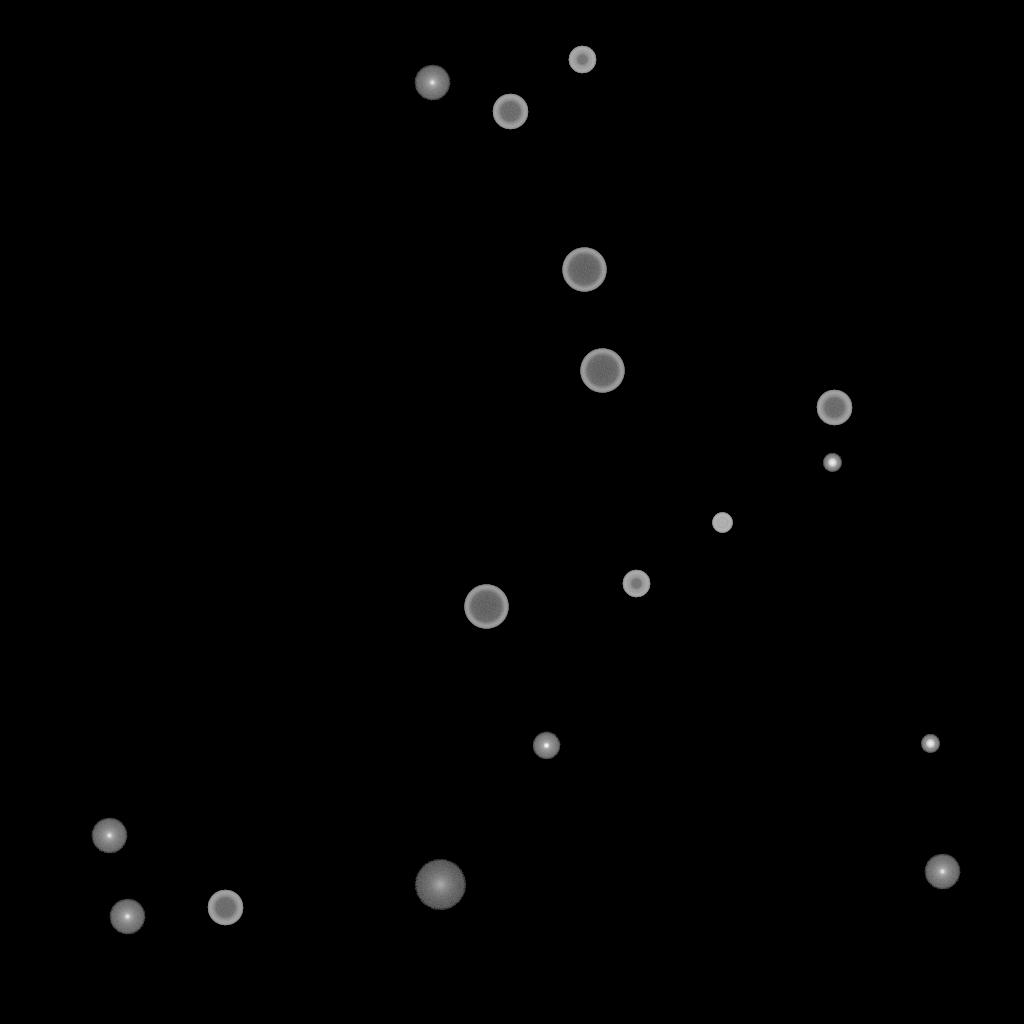depth:-10: (532, 732, 560, 760)
depth:-20: (921, 735, 939, 753), (823, 454, 841, 472)
depth:-40: (712, 513, 732, 533)
depth:-50: (568, 46, 596, 74), (622, 570, 650, 598)
depth:-60: (207, 890, 243, 926), (492, 94, 528, 130), (816, 390, 852, 426)
depth:-70: (562, 248, 606, 292), (464, 585, 508, 629), (580, 349, 624, 393)
depth:0: (414, 65, 450, 101), (924, 854, 960, 890), (91, 818, 127, 854), (109, 899, 145, 935)
depth:20: (414, 860, 466, 910)
